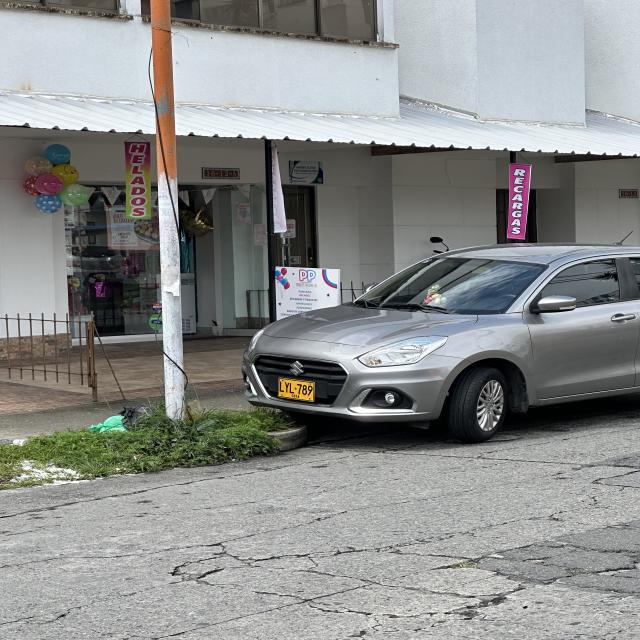number plate: (277, 378, 315, 402)
